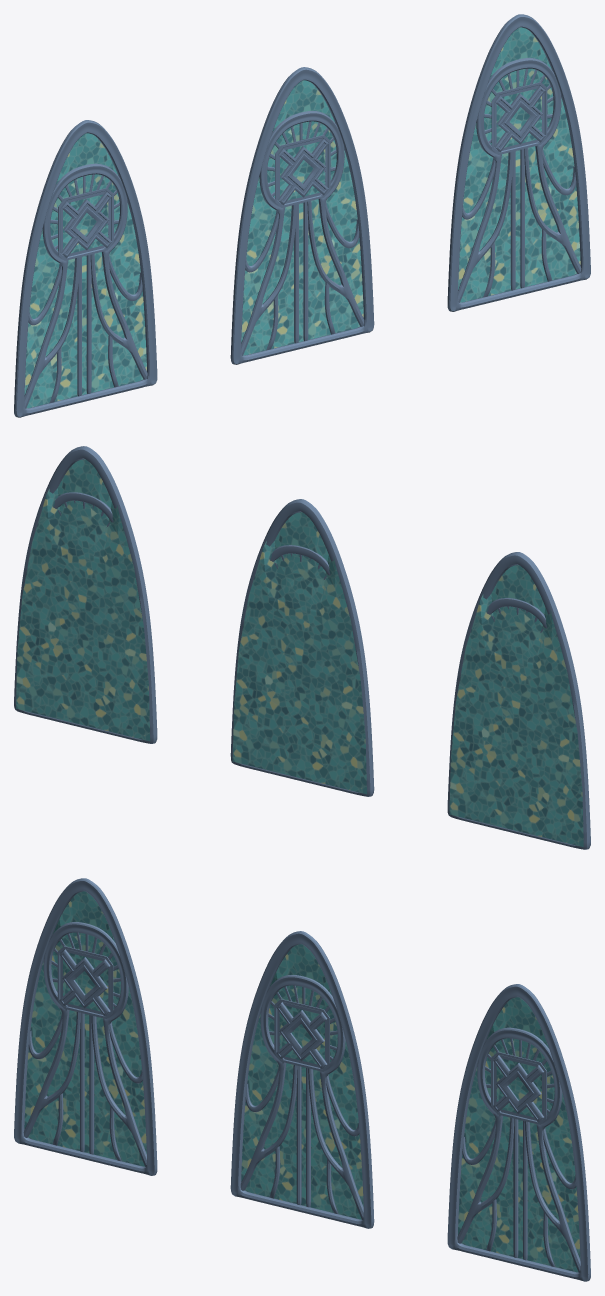
File: OLD_Window.fbx
3 renders of one model, top to bottom at view 1: azimuth 30°, elevation 25°; view 2: azimuth 150°, elevation 25°; view 3: azimuth 330°, elevation 25°, orthographic.
Visible parts, largest first — view 1: WindowCombined.002; view 2: WindowCombined.002; view 3: WindowCombined.002.
Part boxes in pixels (<box>): WindowCombined.002: <box>14,14,590,417</box>; WindowCombined.002: <box>14,446,590,849</box>; WindowCombined.002: <box>14,878,590,1281</box>.
Size of the model in its own units: 2125 by 991 by 30.34.
2 materials, 1 textured.
